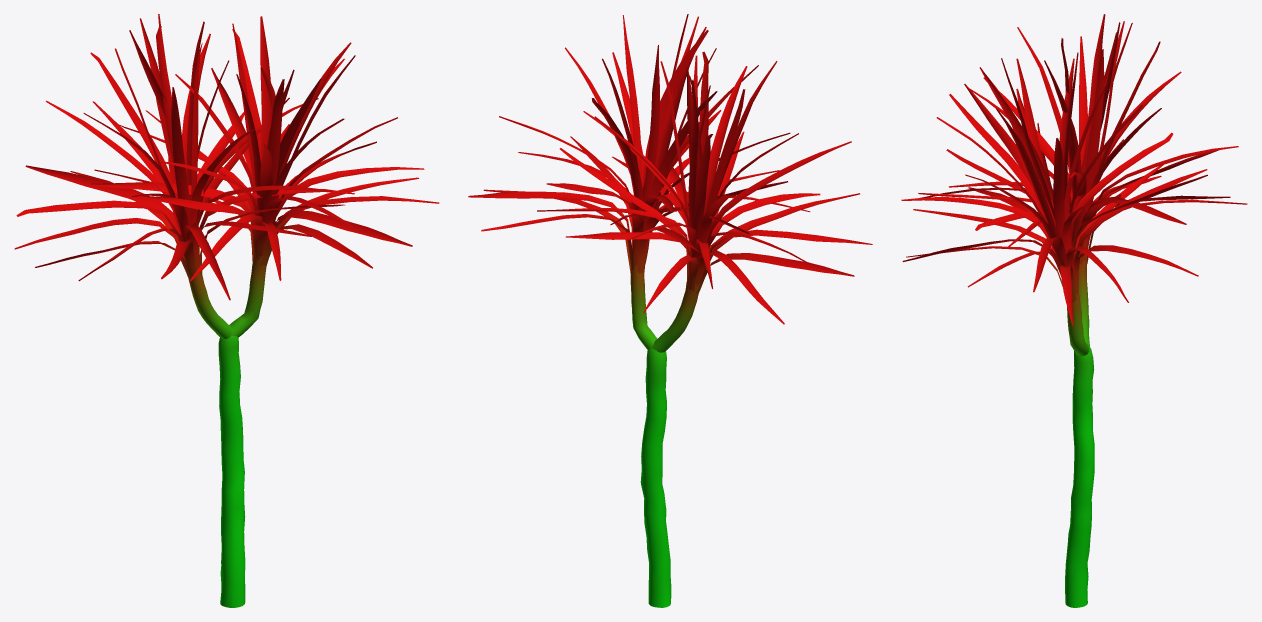
File: Dragon Tree_LOD1_Var7_wfypejzha.fbx
3 views of the same model, side by side, from view 1: azimuth 30°, elevation 25°; view 2: azimuth 150°, elevation 25°; view 3: azimuth 270°, elevation 25° (orthographic). The views are drawn at different scales.
Visible parts, largest first — view 1: _fe4i_Var7_LOD1; view 2: _fe4i_Var7_LOD1; view 3: _fe4i_Var7_LOD1.
Part boxes in pixels (<box>): _fe4i_Var7_LOD1: <box>14,14,439,607</box>; _fe4i_Var7_LOD1: <box>468,14,872,607</box>; _fe4i_Var7_LOD1: <box>901,14,1247,607</box>.
Bounding box in the file's own units: 23.13 × 33.66 × 18.95.
